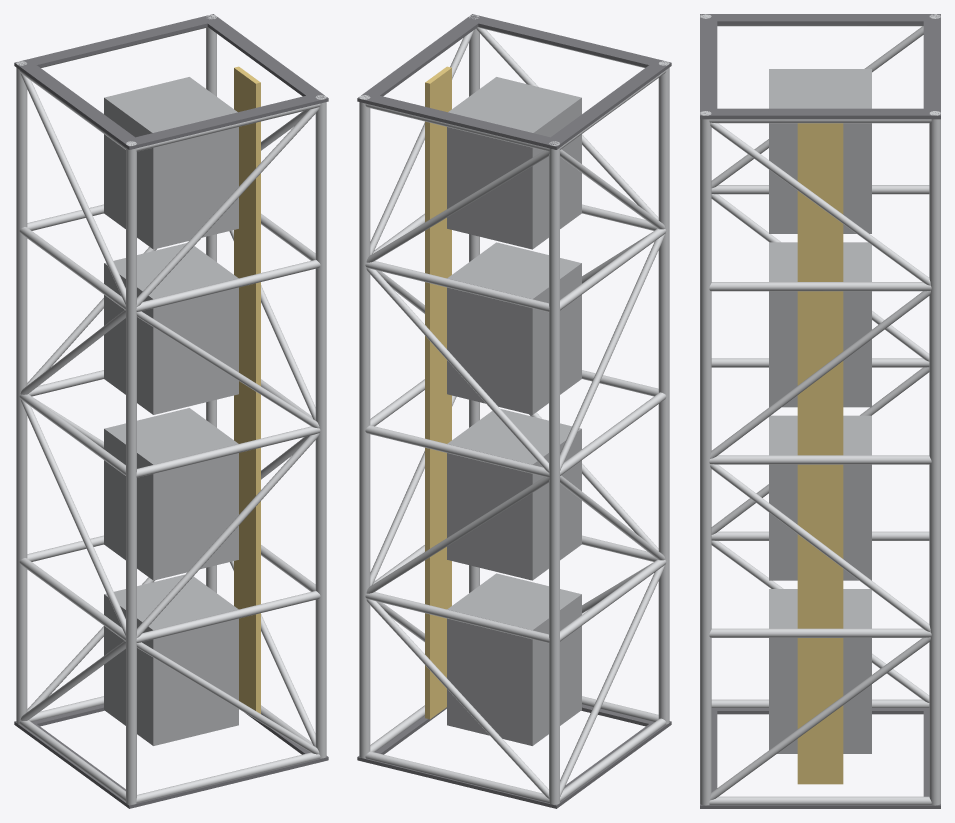
Rendered from station07_truss_l.glb.
3 renders of one model, left to right at view 1: azimuth 30°, elevation 25°; view 2: azimuth 150°, elevation 25°; view 3: azimuth 270°, elevation 25°, orthographic. The views are drawn at different scales.
Parts seen in each view (by area): view 1: service_bays, truss_members, utility_tray, end_frames; view 2: service_bays, truss_members, utility_tray, end_frames; view 3: truss_members, service_bays, utility_tray, end_frames.
Boxes of the visible parts, box(x1,y1,x2,y2) form: service_bays: box(104, 77, 238, 745); truss_members: box(16, 15, 326, 804); utility_tray: box(234, 66, 260, 713); end_frames: box(14, 14, 328, 808); service_bays: box(447, 77, 581, 745); truss_members: box(359, 15, 669, 804); utility_tray: box(425, 66, 451, 719); end_frames: box(357, 14, 671, 808); truss_members: box(700, 14, 940, 805); service_bays: box(769, 69, 871, 753); utility_tray: box(797, 123, 843, 784); end_frames: box(700, 14, 940, 808).
Size of the model in its own units: 3.15 by 10 by 3.15.
